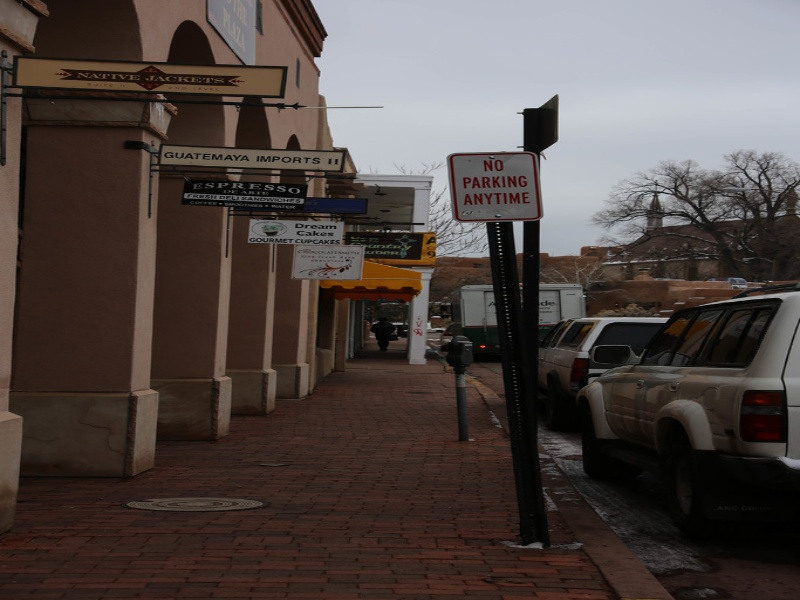no_parking: (449, 152, 545, 225)
